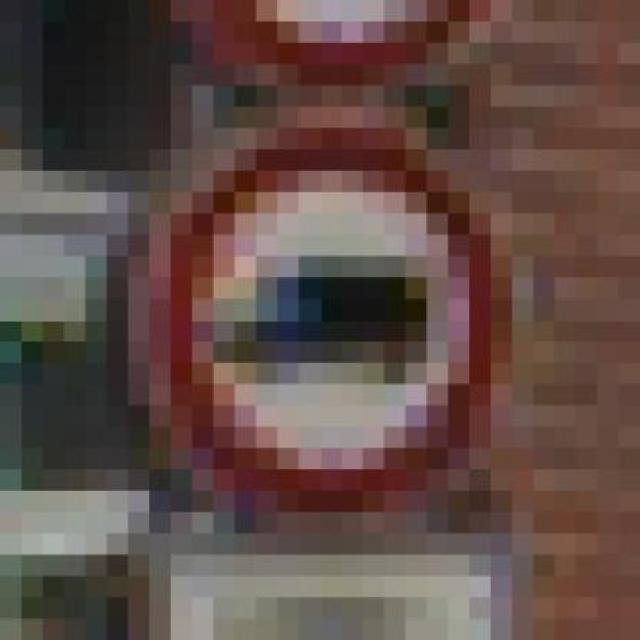Truck traffic is prohibited: (85, 106, 533, 534)
